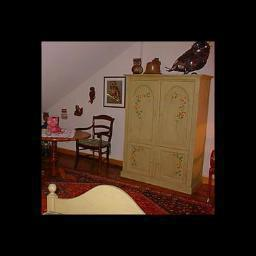Armario: (119, 77, 201, 184)
